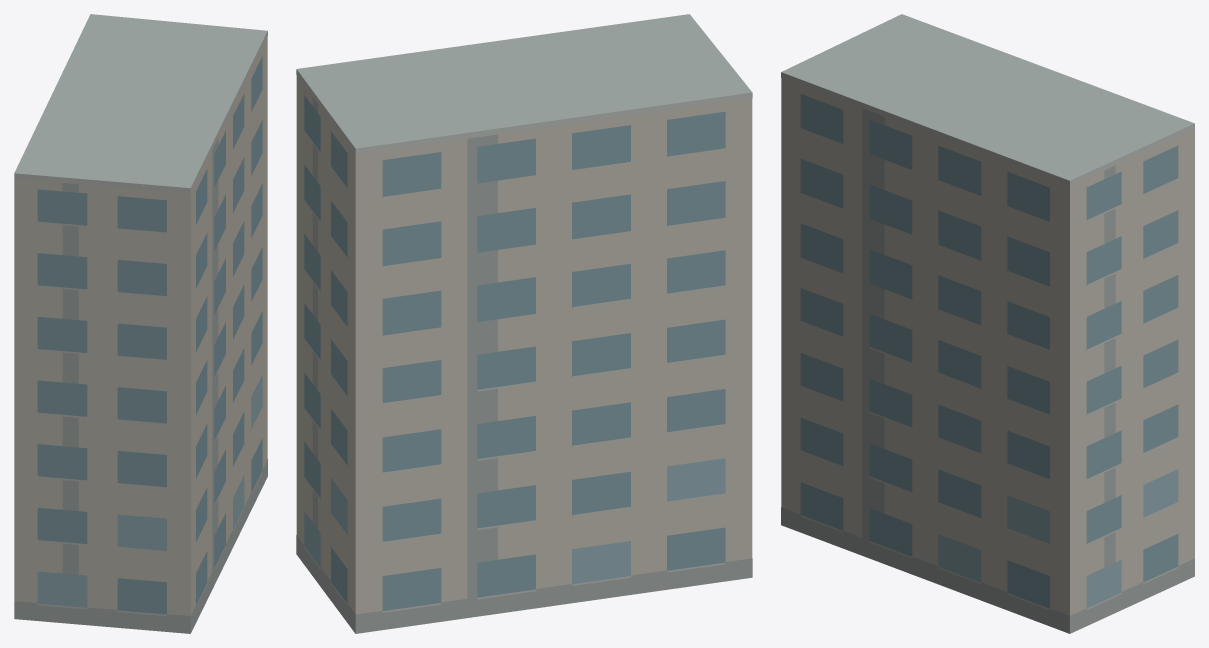
File: survey-upis-32809889.glb
3 views of the same model, side by side, from view 1: azimuth 30°, elevation 25°; view 2: azimuth 150°, elevation 25°; view 3: azimuth 270°, elevation 25° (orthographic). The views are drawn at different scales.
Parts seen in each view (by area): view 1: survey-upis-32809889.tmp; view 2: survey-upis-32809889.tmp; view 3: survey-upis-32809889.tmp.
Part boxes in pixels (bbox=[...]): survey-upis-32809889.tmp: bbox=[14, 14, 267, 633]; survey-upis-32809889.tmp: bbox=[296, 14, 752, 633]; survey-upis-32809889.tmp: bbox=[781, 14, 1194, 633].
Bounding box in the file's own units: 15.72 × 19.9 × 16.47.
